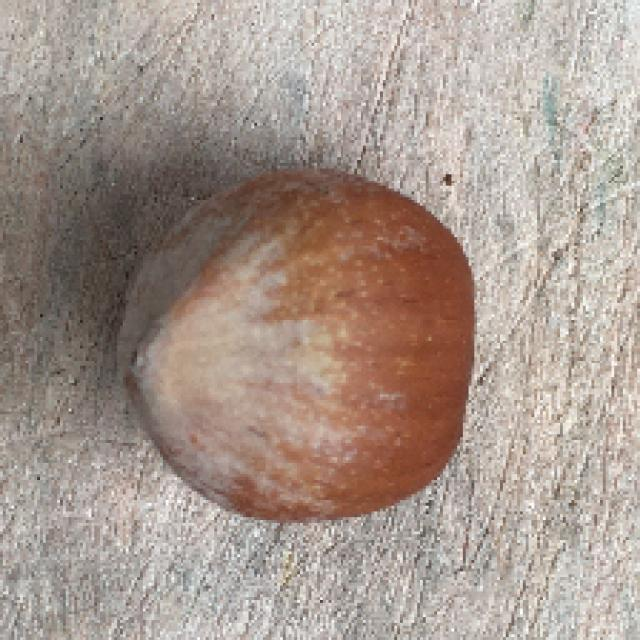hazelnut: (112, 153, 472, 528)
